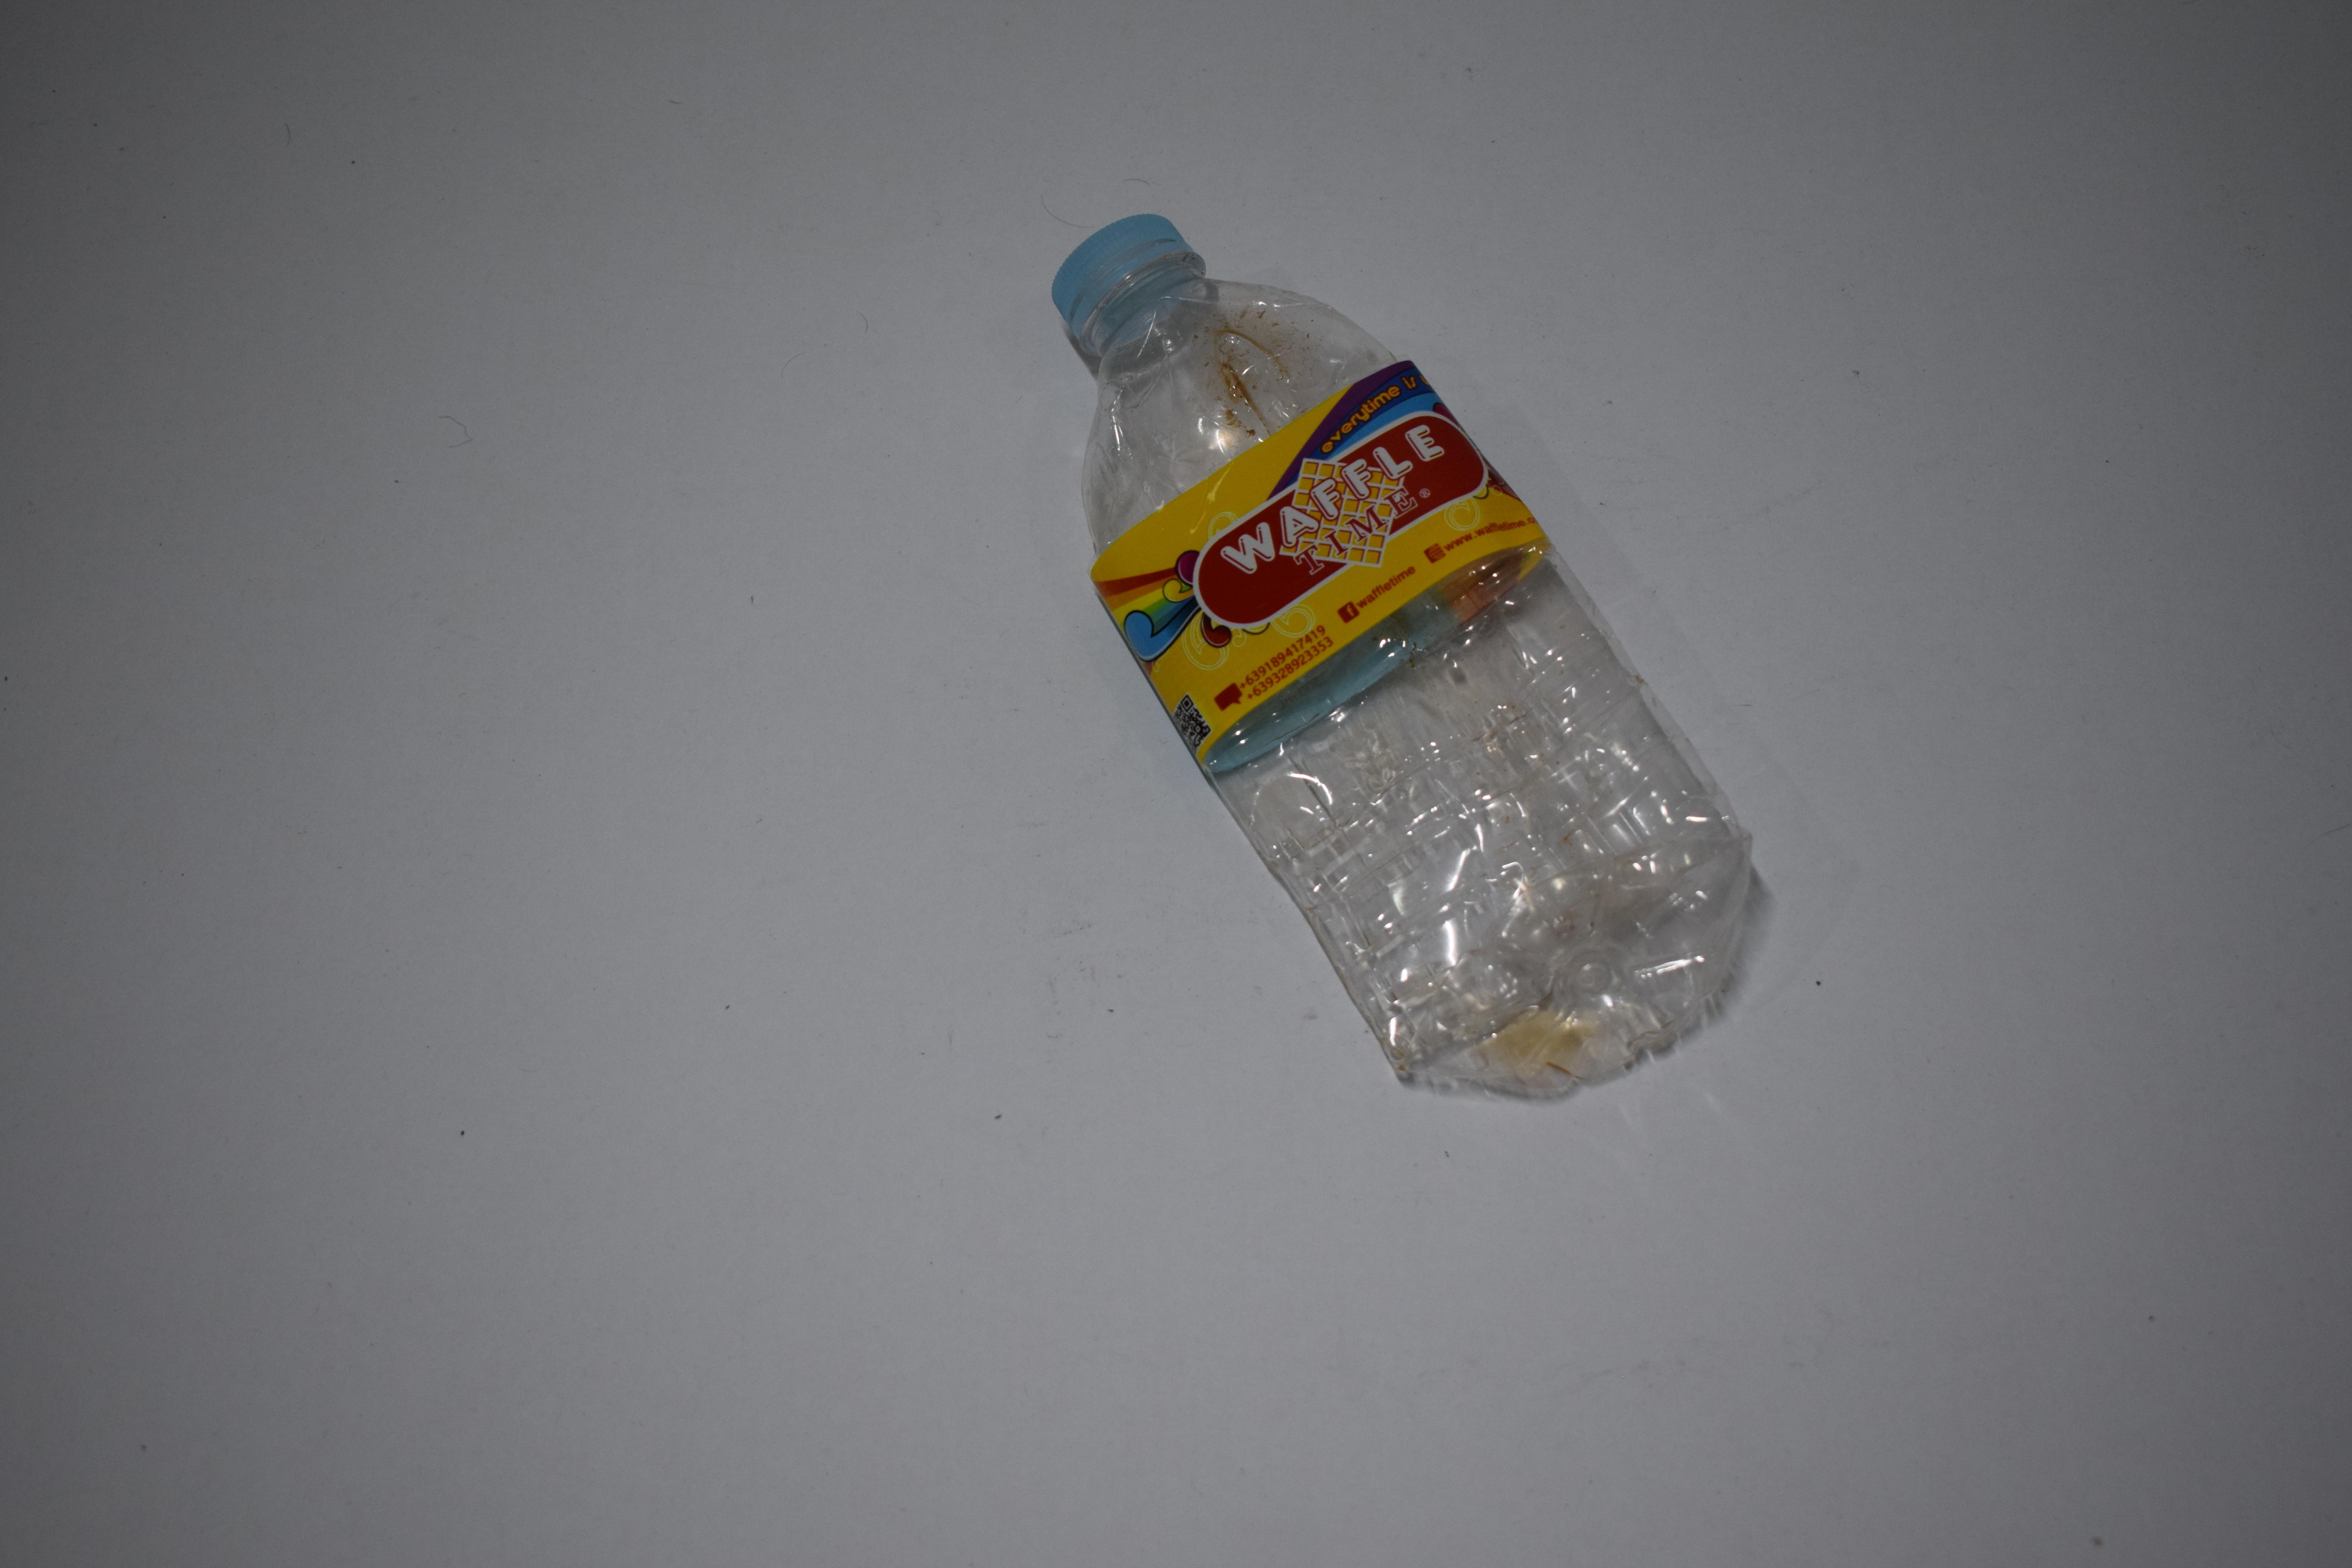bottle: (0, 588, 581, 698)
